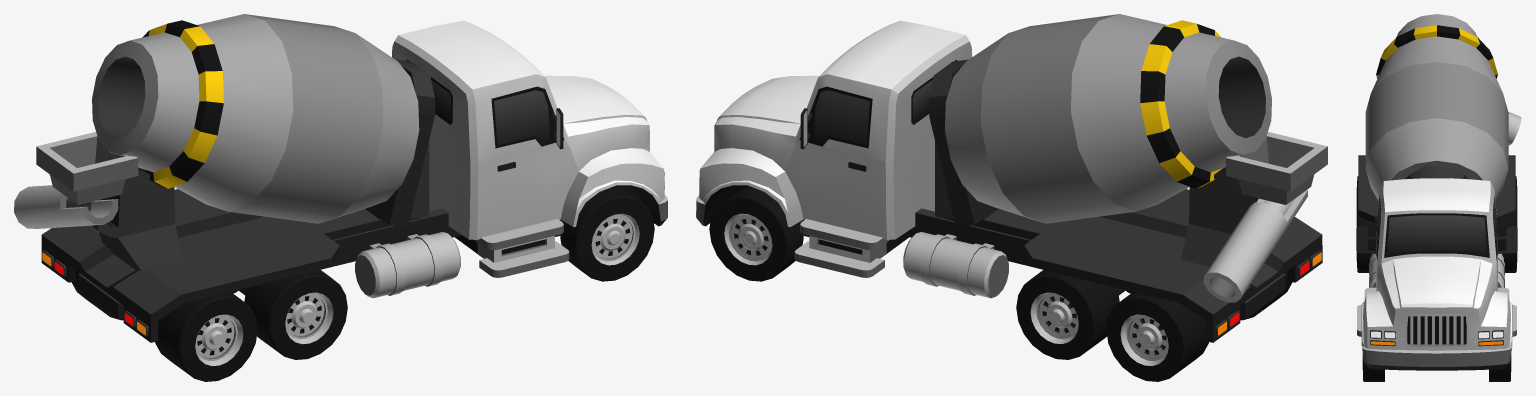
File: Construction_002.glb
3 views of the same model, side by side, from view 1: azimuth 30°, elevation 25°; view 2: azimuth 150°, elevation 25°; view 3: azimuth 270°, elevation 25° (orthographic). The views are drawn at different scales.
Parts seen in each view (by area): view 1: Construction_002, wheel_5_Construction_002_Wheel_3R, wheel_3_Construction_002_Wheel_2R, wheel_1_Construction_002_Wheel_1R; view 2: Construction_002, wheel_4_Construction_002_Wheel_3L, wheel_2_Construction_002_Wheel_2L, wheel_0_Construction_002_Wheel_1L; view 3: Construction_002, wheel_2_Construction_002_Wheel_2L, wheel_3_Construction_002_Wheel_2R, wheel_1_Construction_002_Wheel_1R, wheel_0_Construction_002_Wheel_1L.
Part boxes in pixels (x1,y1,x2,y2): Construction_002: (14,14,667,342); wheel_5_Construction_002_Wheel_3R: (155,292,257,381); wheel_3_Construction_002_Wheel_2R: (244,270,347,359); wheel_1_Construction_002_Wheel_1R: (560,186,654,281); Construction_002: (696,14,1327,342); wheel_4_Construction_002_Wheel_3L: (1106,292,1208,381); wheel_2_Construction_002_Wheel_2L: (1016,270,1119,359); wheel_0_Construction_002_Wheel_1L: (709,186,803,281); Construction_002: (1356,14,1521,370); wheel_2_Construction_002_Wheel_2L: (1497,208,1517,272); wheel_3_Construction_002_Wheel_2R: (1356,208,1376,272); wheel_1_Construction_002_Wheel_1R: (1362,353,1384,381); wheel_0_Construction_002_Wheel_1L: (1489,354,1511,381).
Bounding box in the file's own units: 6.92 × 3.54 × 2.4.
Materials: 2 (2 with a texture image).
